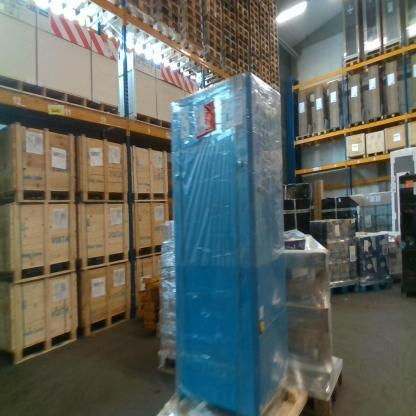pallets: (104, 0, 289, 106), (0, 76, 177, 134), (0, 309, 137, 368), (0, 247, 133, 291), (259, 356, 344, 415), (290, 107, 415, 146), (341, 37, 414, 75), (1, 188, 131, 208), (329, 276, 398, 301), (343, 144, 401, 168), (123, 187, 171, 212), (130, 236, 171, 264), (153, 348, 185, 382)
